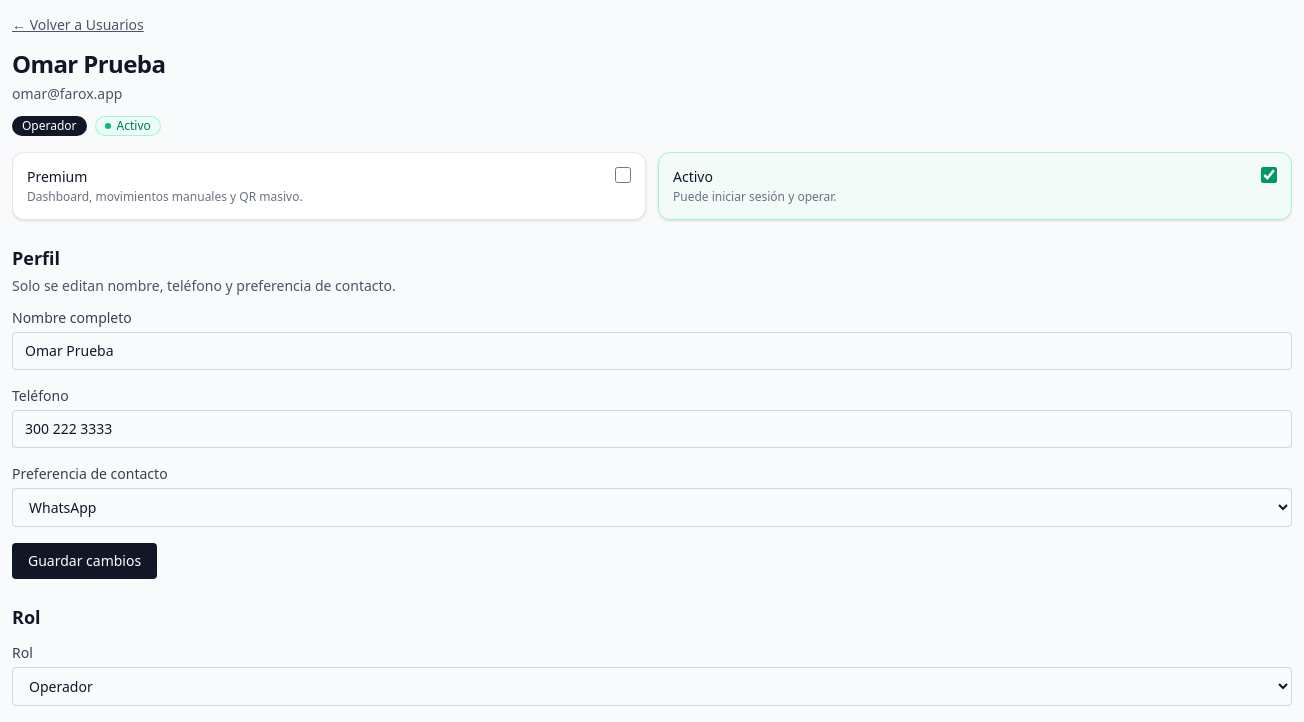
Test case: UserDetailPage · ADM-4 (perfil: SOLO las 3 columnas GRANT'd) › ADM-4.3: 42501 del update ⇒ «No tenés permisos para esta operación.», jamás texto crudo
The width and height of the screenshot is (1304, 722).
Check: the field showing "Omar Prueba" is shown, box [12,332,1292,370]
Click the button "Guardar cambios". click: x=85, y=561
box: [12,543,157,579]
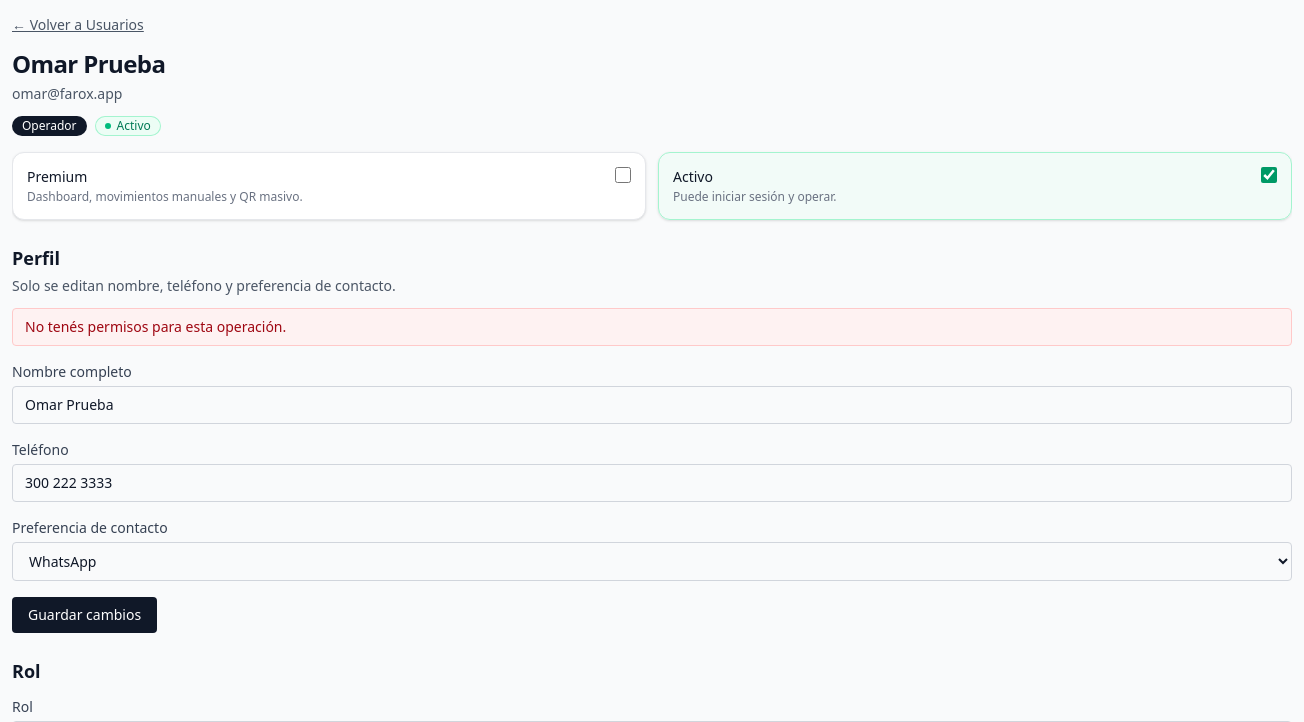
Check: the message reads "No tenés permisos para esta operación.", box [25,317,286,336]
